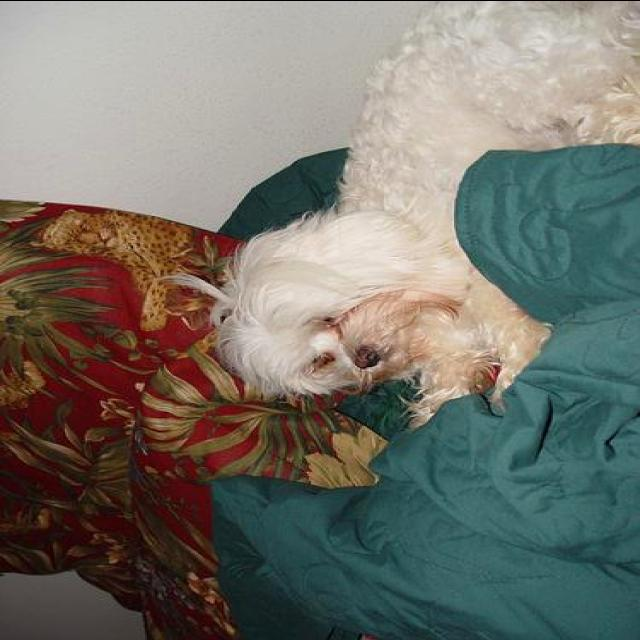maltese_dog: (208, 4, 633, 420)
